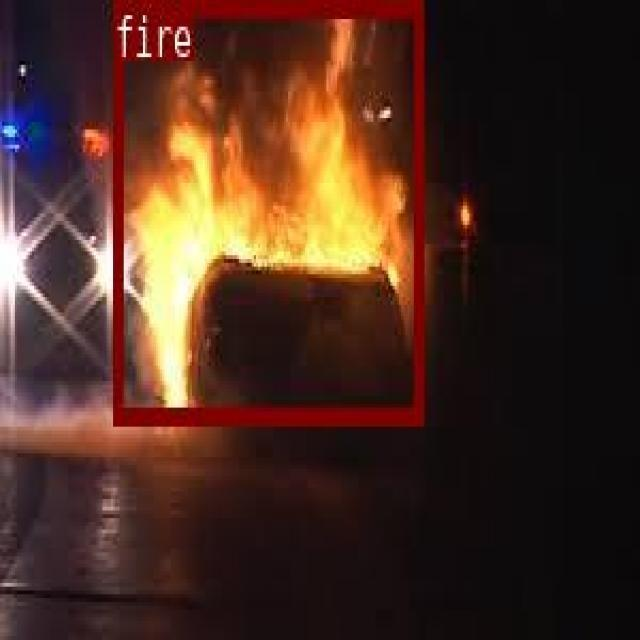fire: (112, 0, 421, 419)
